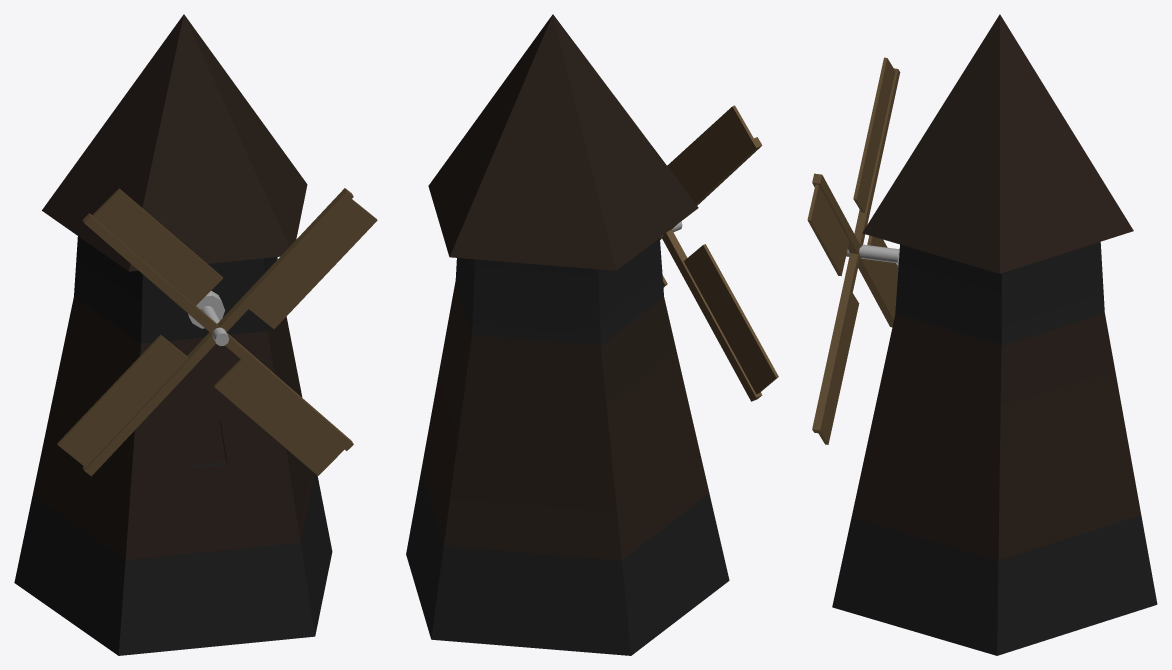
File: moinho_02.fbx
3 views of the same model, side by side, from view 1: azimuth 30°, elevation 25°; view 2: azimuth 150°, elevation 25°; view 3: azimuth 270°, elevation 25° (orthographic).
Visible parts, largest first — view 1: moinho_Lucas; view 2: moinho_Lucas; view 3: moinho_Lucas.
Boxes of the visible parts, x1,y1,x2,y2 form: moinho_Lucas: [14, 14, 377, 655]; moinho_Lucas: [406, 14, 778, 655]; moinho_Lucas: [807, 14, 1157, 655].
Size of the model in its own units: 761 by 1292 by 718.
